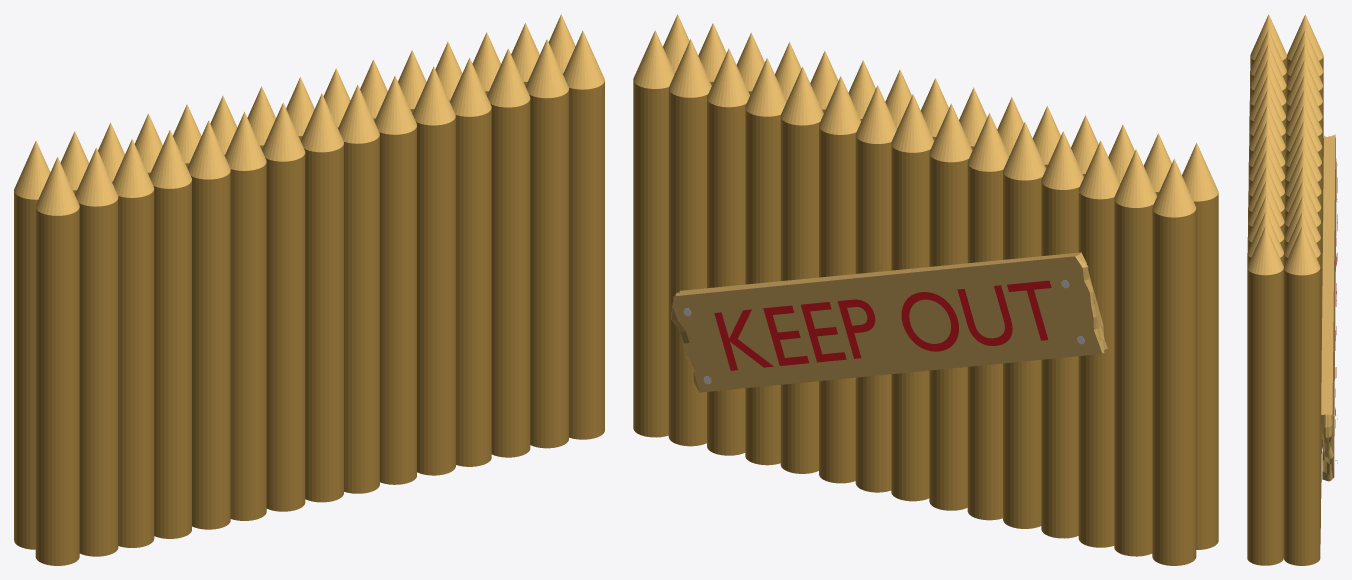
File: Wall.fbx
3 views of the same model, side by side, from view 1: azimuth 30°, elevation 25°; view 2: azimuth 150°, elevation 25°; view 3: azimuth 270°, elevation 25° (orthographic). The views are drawn at different scales.
Visible parts, largest first — view 1: Cylinder.044, Cylinder.043, Cylinder.047, Cylinder.054, Cylinder.052, Cylinder.049, Cylinder.055, Cylinder.046, Cylinder.048, Cylinder.053, Cylinder.024, Cylinder.050 (+34 smaller); view 2: Plane, Cylinder.012, Cylinder.013, Cylinder, Cylinder.001, Cylinder.014, Cylinder.009, Cylinder.010, Cylinder.004, Cylinder.007, Cylinder.002, Cylinder.008 (+36 smaller); view 3: Cylinder, Cylinder.056, Plane, Cone, Cone.055, Cone.002, Cone.006, Cone.012, Cone.052, Cone.050, Cone.003, Cone.049 (+32 smaller).
Part boxes in pixels (x1,y1,x2,y2): Cylinder.044: (35,208,79,565); Cylinder.043: (78,198,118,556); Cylinder.047: (265,153,305,511); Cylinder.054: (490,99,530,457); Cylinder.052: (416,117,455,475); Cylinder.049: (191,171,230,529); Cylinder.055: (529,90,568,448); Cylinder.046: (304,144,343,502); Cylinder.048: (153,181,191,538); Cylinder.053: (379,127,416,484); Cylinder.024: (118,189,154,547); Cylinder.050: (230,162,266,520); Plane: (671,252,1107,392); Cylinder.012: (1152,209,1196,565); Cylinder.013: (1114,200,1153,556); Cylinder: (633,81,668,437); Cylinder.001: (668,89,707,446); Cylinder.014: (1078,191,1114,547); Cylinder.009: (929,154,968,510); Cylinder.010: (891,145,930,501); Cylinder.004: (780,117,819,473); Cylinder.007: (1003,172,1042,528); Cylinder.002: (707,99,746,455); Cylinder.008: (1041,182,1079,538); Cylinder: (1283,268,1320,565); Cylinder.056: (1247,268,1283,565); Plane: (1321,134,1336,481); Cone: (1284,226,1320,275); Cone.055: (1247,226,1283,275); Cone.002: (1284,196,1320,242); Cone.006: (1286,90,1322,135); Cone.012: (1287,14,1323,60); Cone.052: (1248,150,1284,196); Cone.050: (1248,180,1284,226); Cone.003: (1285,150,1321,196); Cone.049: (1249,90,1285,135).
Size of the model in its own units: 588 by 400 by 98.86.
